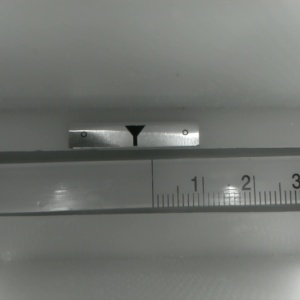1: (191, 177, 198, 192)
2: (241, 175, 251, 190)
3: (291, 172, 300, 189)
finger: (124, 126, 145, 145)
